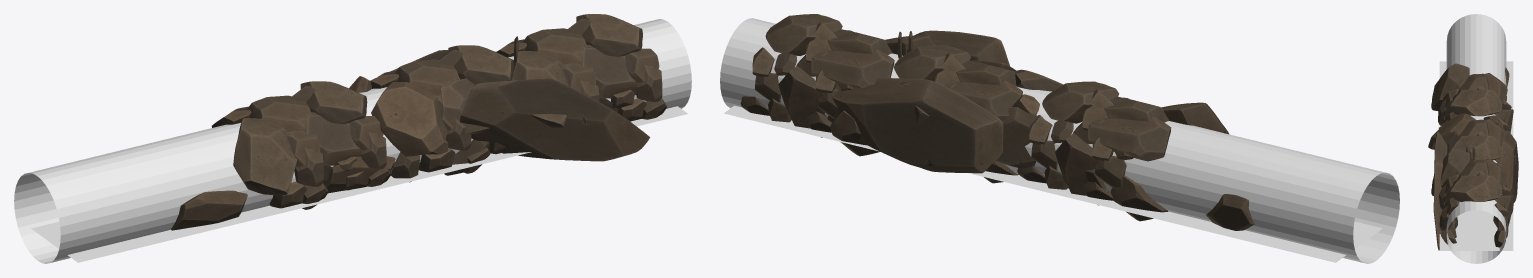
The model's file is grotte.fbx.
3 renders of one model, left to right at view 1: azimuth 30°, elevation 25°; view 2: azimuth 150°, elevation 25°; view 3: azimuth 270°, elevation 25°, orthographic. The views are drawn at different scales.
Visible parts, largest first — view 1: Cylinder, ST_Stone2.046, Plane, ST_Stone4.001, ST_Stone4.005, ST_Stone2.035, ST_Stone4.004, ST_Stone4, ST_Stone4.003, ST_Stone2.007, ST_Stone2.037, ST_Stone4.002 (+20 smaller); view 2: Cylinder, ST_Stone2.047, Plane, ST_Stone2.034, ST_Stone2.004, ST_Stone4.004, ST_Stone4, ST_Stone1.002, ST_Stone4.003, ST_Stone2.048, ST_Stone1.016, ST_Stone2.046 (+22 smaller); view 3: Cylinder, Plane, ST_Stone4, ST_Stone4.004, ST_Stone4.003, ST_Stone4.005, ST_Stone2.046, ST_Stone2.047, ST_Stone4.002, ST_Stone4.001, ST_Stone2.014, ST_Stone2.044 (+23 smaller).
Part boxes in pixels (<box>): Cylinder: <box>14,19,691,263</box>; ST_Stone2.046: <box>460,78,650,161</box>; Plane: <box>31,106,687,262</box>; ST_Stone4.001: <box>371,82,447,156</box>; ST_Stone4.005: <box>233,118,296,194</box>; ST_Stone2.035: <box>171,190,247,230</box>; ST_Stone4.004: <box>300,81,367,123</box>; ST_Stone4: <box>576,14,642,56</box>; ST_Stone4.003: <box>448,45,514,84</box>; ST_Stone2.007: <box>579,45,638,98</box>; ST_Stone2.037: <box>304,112,362,165</box>; ST_Stone4.002: <box>511,50,568,127</box>; Cylinder: <box>720,18,1399,263</box>; ST_Stone2.047: <box>827,78,1003,173</box>; Plane: <box>724,105,1382,262</box>; ST_Stone2.034: <box>1088,117,1171,161</box>; ST_Stone2.004: <box>811,49,894,89</box>; ST_Stone4.004: <box>1042,81,1118,123</box>; ST_Stone4: <box>765,14,842,55</box>; ST_Stone1.002: <box>778,66,825,128</box>; ST_Stone4.003: <box>894,45,970,81</box>; ST_Stone2.048: <box>996,107,1052,168</box>; ST_Stone1.016: <box>1055,133,1100,195</box>; ST_Stone2.046: <box>914,30,1009,65</box>; Cylinder: <box>1446,14,1506,263</box>; Plane: <box>1439,61,1513,250</box>; ST_Stone4: <box>1450,175,1502,201</box>; ST_Stone4.004: <box>1450,89,1502,116</box>; ST_Stone4.003: <box>1450,135,1501,160</box>; ST_Stone4.005: <box>1431,63,1469,110</box>; ST_Stone2.046: <box>1433,131,1447,250</box>; ST_Stone2.047: <box>1500,130,1518,202</box>; ST_Stone4.002: <box>1431,149,1469,195</box>; ST_Stone4.001: <box>1428,113,1475,149</box>; ST_Stone2.014: <box>1457,159,1489,179</box>; ST_Stone2.044: <box>1457,73,1489,93</box>.
Bounding box in the file's own units: 1264 × 231 × 246.
